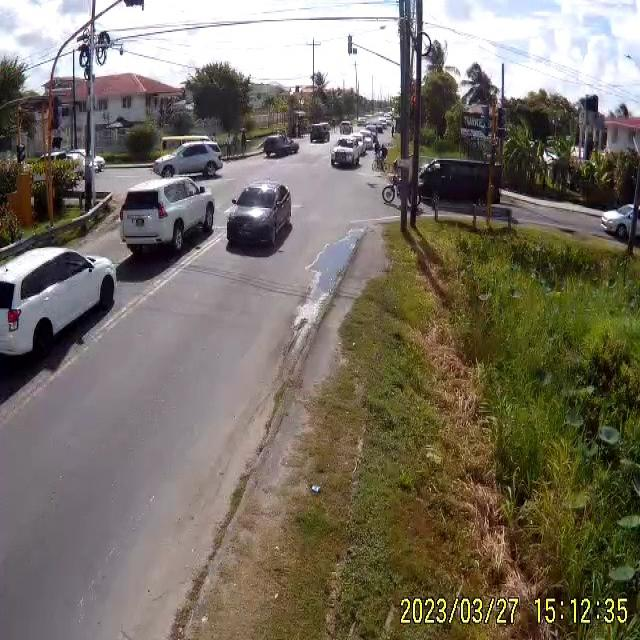car: (2, 241, 118, 377), (119, 179, 217, 253), (421, 156, 503, 218), (224, 181, 293, 252), (153, 142, 223, 179), (600, 203, 638, 242), (330, 138, 361, 170), (263, 136, 299, 159), (310, 123, 329, 143)
